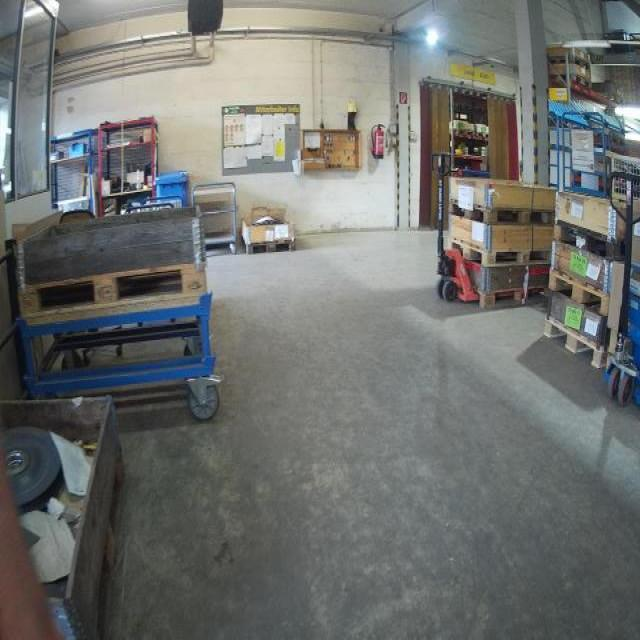pallet: (16, 260, 208, 320), (448, 196, 557, 228), (553, 219, 624, 265), (449, 237, 552, 268), (543, 317, 602, 371), (549, 267, 608, 318), (477, 283, 547, 311), (245, 237, 296, 255), (550, 69, 592, 90), (550, 54, 591, 73)
pallet_truck: (425, 146, 486, 309), (601, 163, 639, 410)
stillage: (604, 145, 639, 205)
